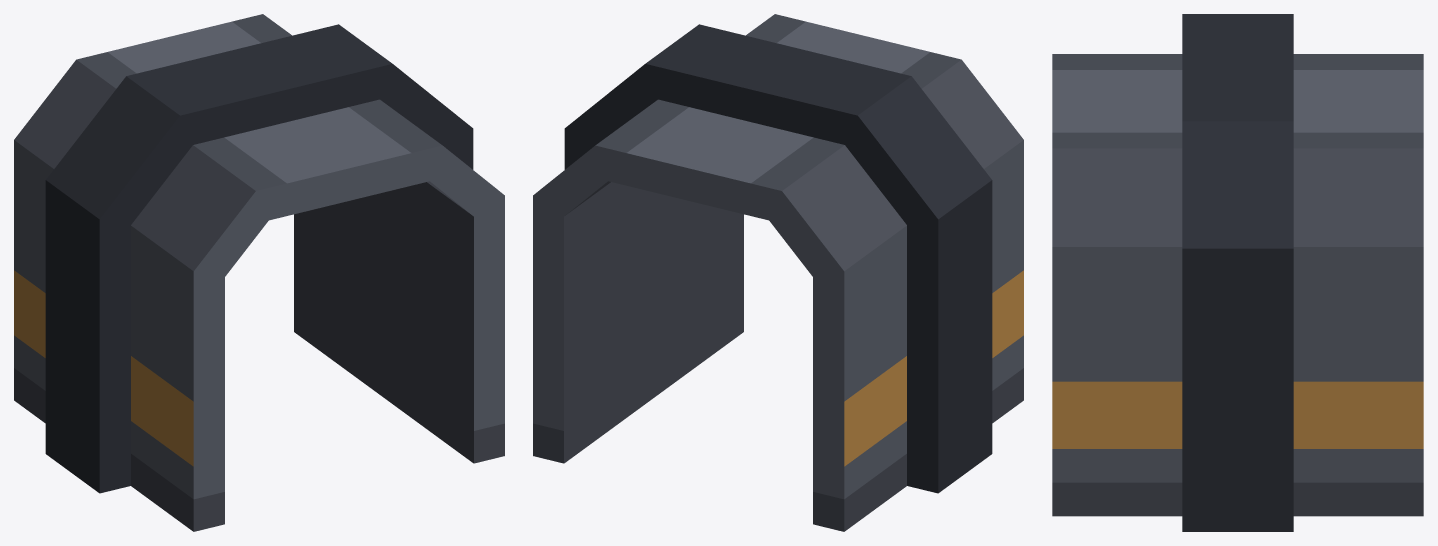
Rendered from station_corridor.glb.
The picture shows the model from 3 angles, left to right: view 1: azimuth 30°, elevation 25°; view 2: azimuth 150°, elevation 25°; view 3: azimuth 270°, elevation 25°; orthographic projection. The views are drawn at different scales.
Visible parts, largest first — view 1: body; view 2: body; view 3: body.
Boxes of the visible parts, x1,y1,x2,y2 form: body: (14, 14, 504, 531); body: (533, 14, 1023, 531); body: (1052, 14, 1423, 531).
Bounding box in the file's own units: 1.2 × 1.1 × 1.
